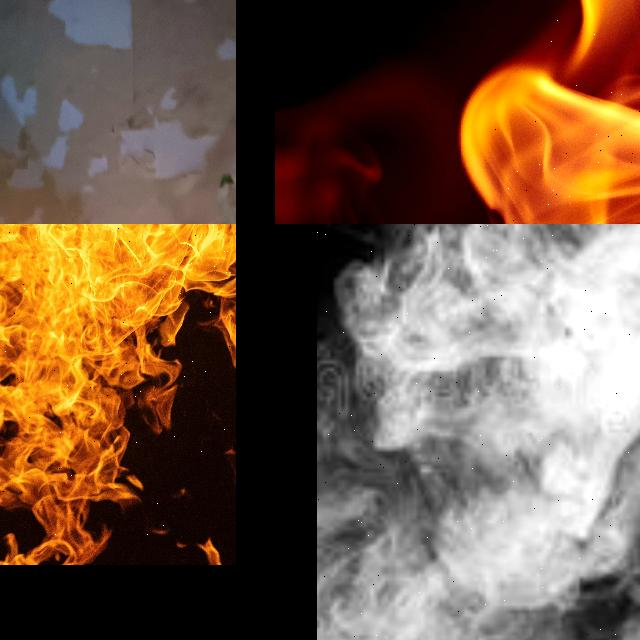fire: (0, 224, 236, 564), (462, 0, 640, 224)
smoke: (318, 224, 640, 640)
